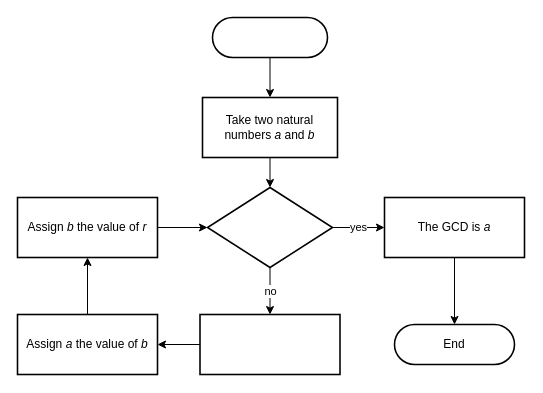
This 543x393 diagram has some shape labels left out. The shapes that lost their labels are listed below. From the top down, each one's box as (x1, y1, x2, y2) in pixels, then its label:
(211, 16, 328, 58): Start
(206, 186, 333, 268): Is b equal to 0?
(199, 313, 340, 375): Compute r , the remainder of the Euclidean division of a by b
